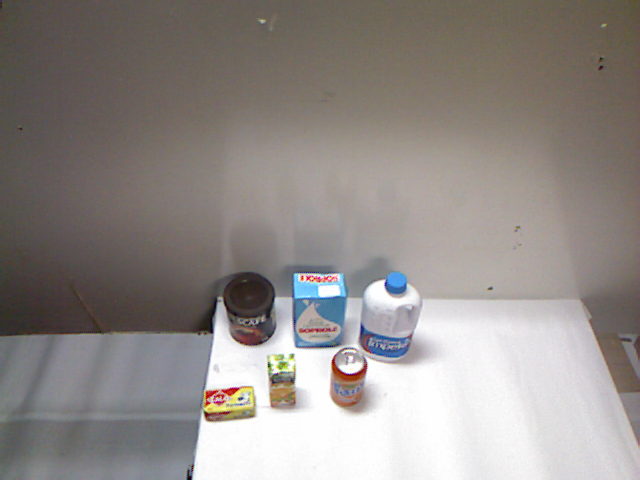cloro: (372, 251, 436, 349)
crema: (265, 322, 306, 374)
harina: (288, 264, 355, 344)
jugoind: (395, 339, 437, 397)
ketchup: (334, 313, 376, 378)
papas: (219, 236, 279, 346)
